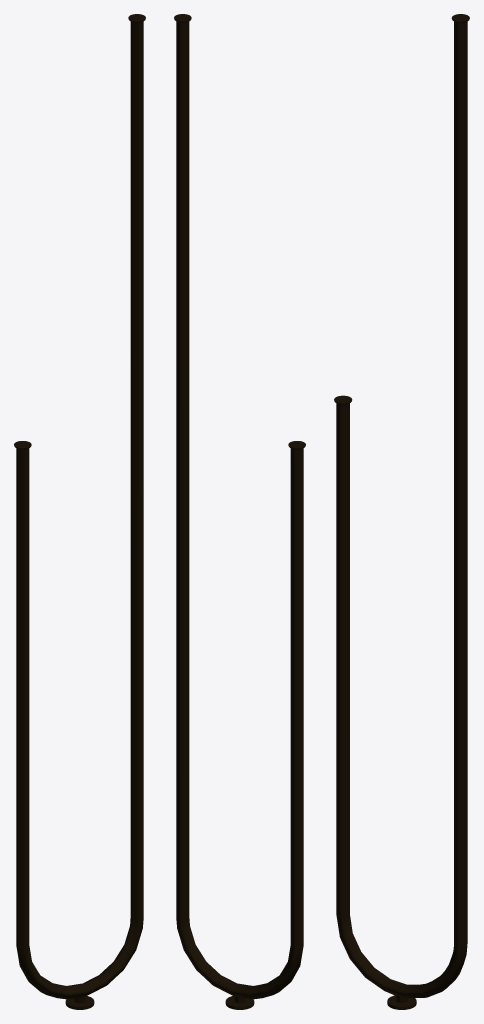
File: VictoryStandBlack.glb
3 views of the same model, side by side, from view 1: azimuth 30°, elevation 25°; view 2: azimuth 150°, elevation 25°; view 3: azimuth 330°, elevation 25° (orthographic). The views are drawn at different scales.
Visible parts, largest first — view 1: Stand; view 2: Stand; view 3: Stand.
Part boxes in pixels (x1=…): Stand: x1=14, y1=14, x2=145, y2=1009; Stand: x1=174, y1=14, x2=305, y2=1009; Stand: x1=334, y1=14, x2=469, y2=1009.
Size of the model in its own units: 0.0343 by 0.2466 by 0.00658.
